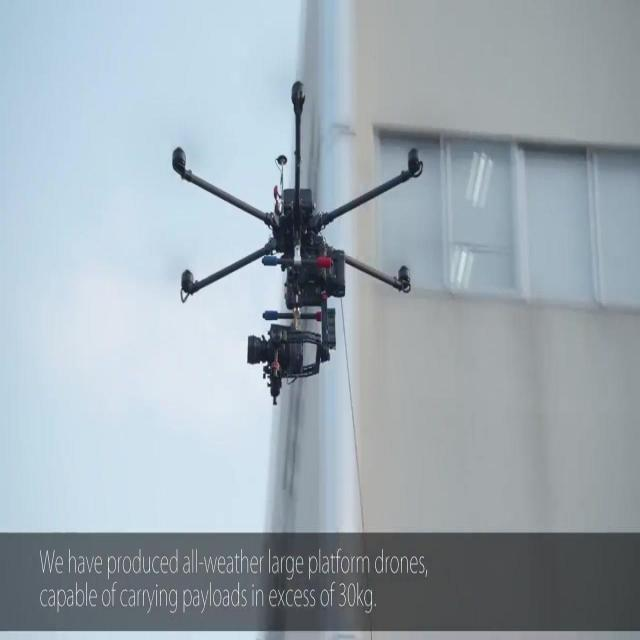UAV: (172, 80, 424, 408)
